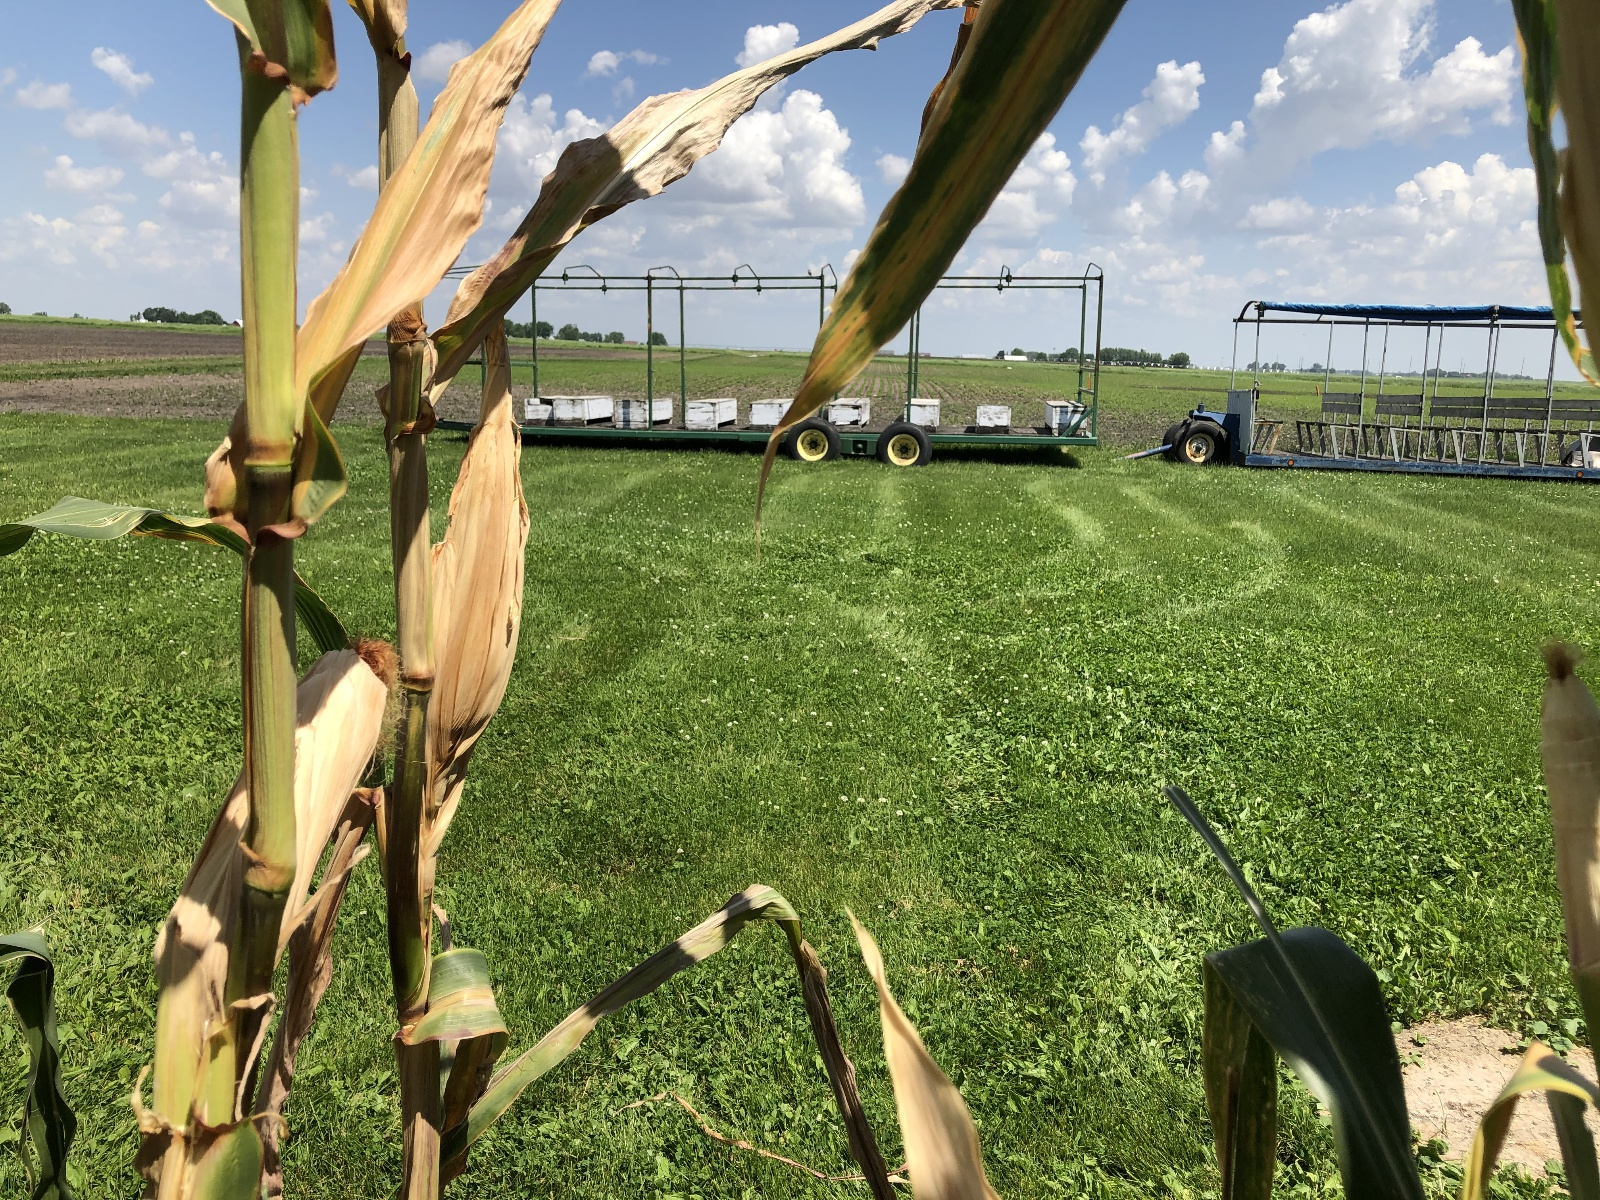ear: (163, 633, 399, 962), (430, 335, 535, 739), (1529, 635, 1599, 976)
